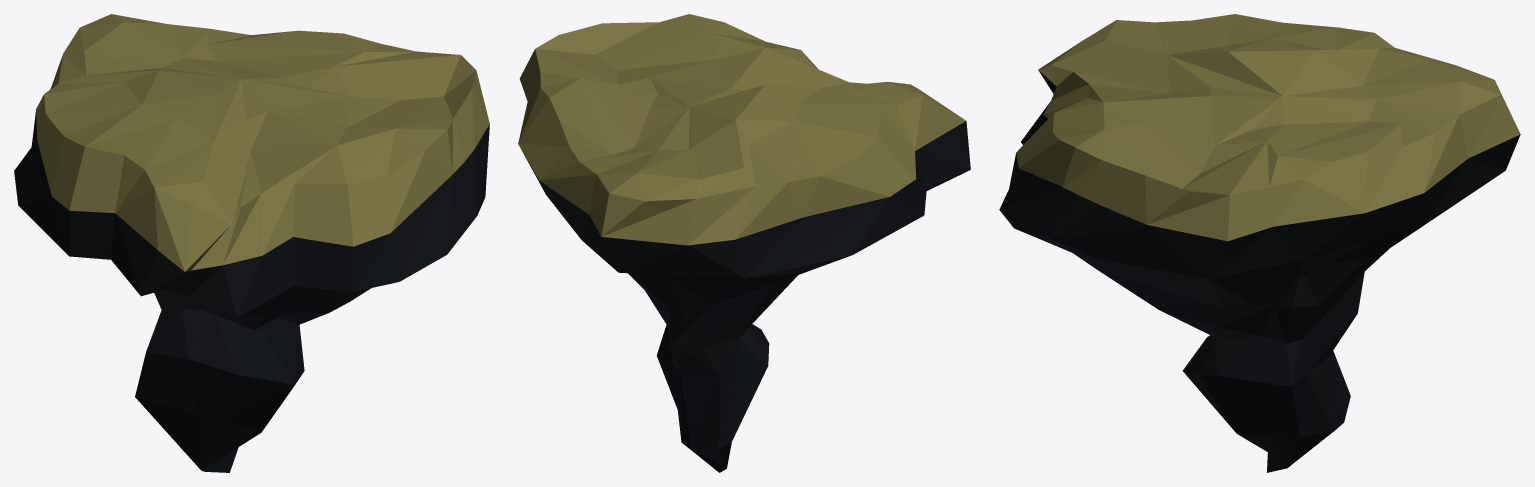
Rendered from rock019.FBX.
3 renders of one model, left to right at view 1: azimuth 30°, elevation 25°; view 2: azimuth 150°, elevation 25°; view 3: azimuth 270°, elevation 25°, orthographic. The views are drawn at different scales.
Visible parts, largest first — view 1: rock_019; view 2: rock_019; view 3: rock_019.
Boxes of the visible parts, x1,y1,x2,y2 form: rock_019: [14, 14, 489, 472]; rock_019: [518, 14, 970, 472]; rock_019: [999, 14, 1520, 472].
Size of the model in its own units: 10.71 by 9.74 by 11.31.
